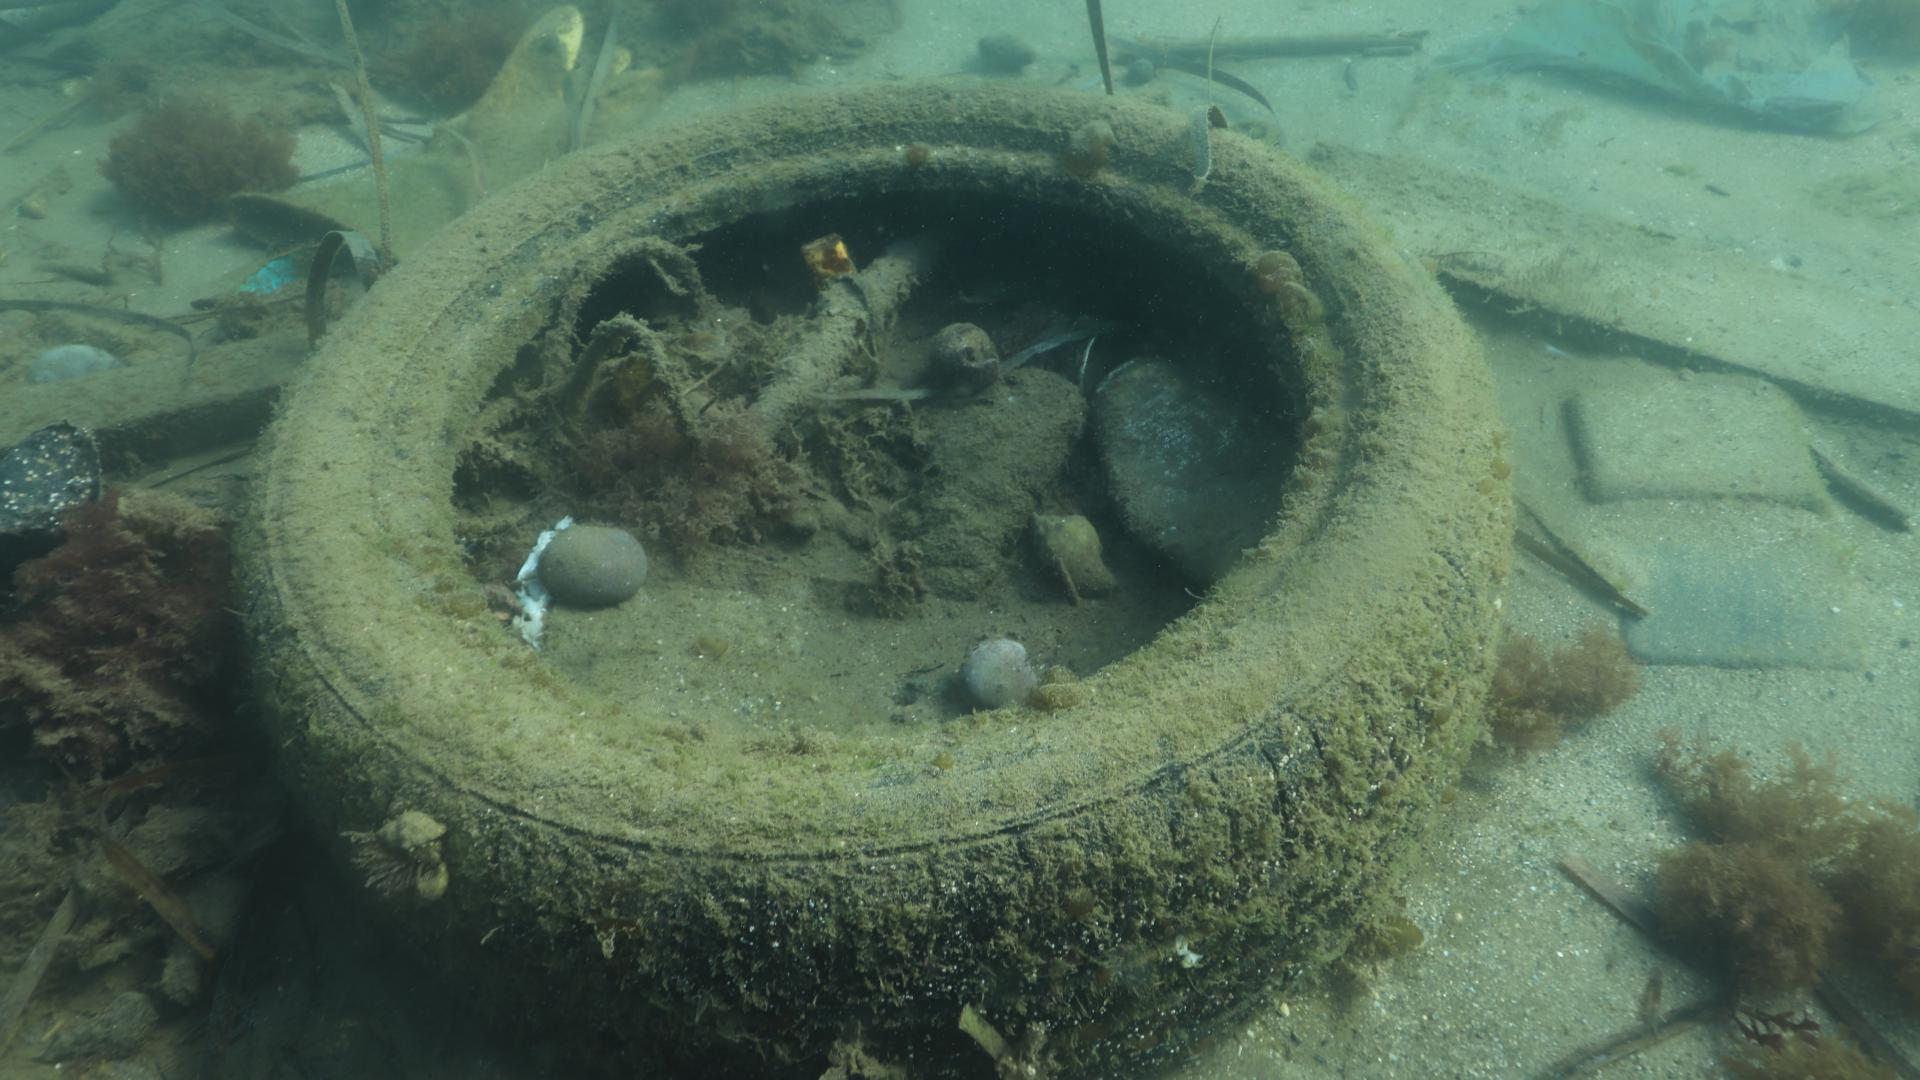tire: (225, 73, 1520, 1080)
